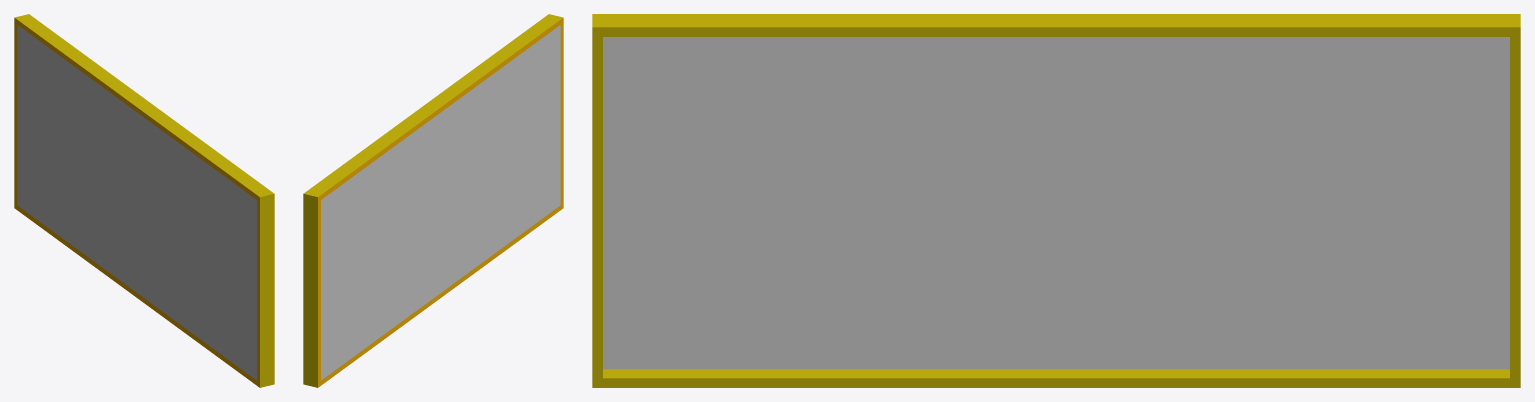
The model's file is window_7x3.dae.
3 renders of one model, left to right at view 1: azimuth 30°, elevation 25°; view 2: azimuth 150°, elevation 25°; view 3: azimuth 270°, elevation 25°, orthographic. The views are drawn at different scales.
Visible parts, largest first — view 1: Cube; view 2: Cube; view 3: Cube.
Boxes of the visible parts, x1,y1,x2,y2 form: Cube: (14,14,274,387); Cube: (303,14,563,387); Cube: (592,14,1520,387).
Size of the model in its own units: 0.06 by 1.75 by 0.75.
